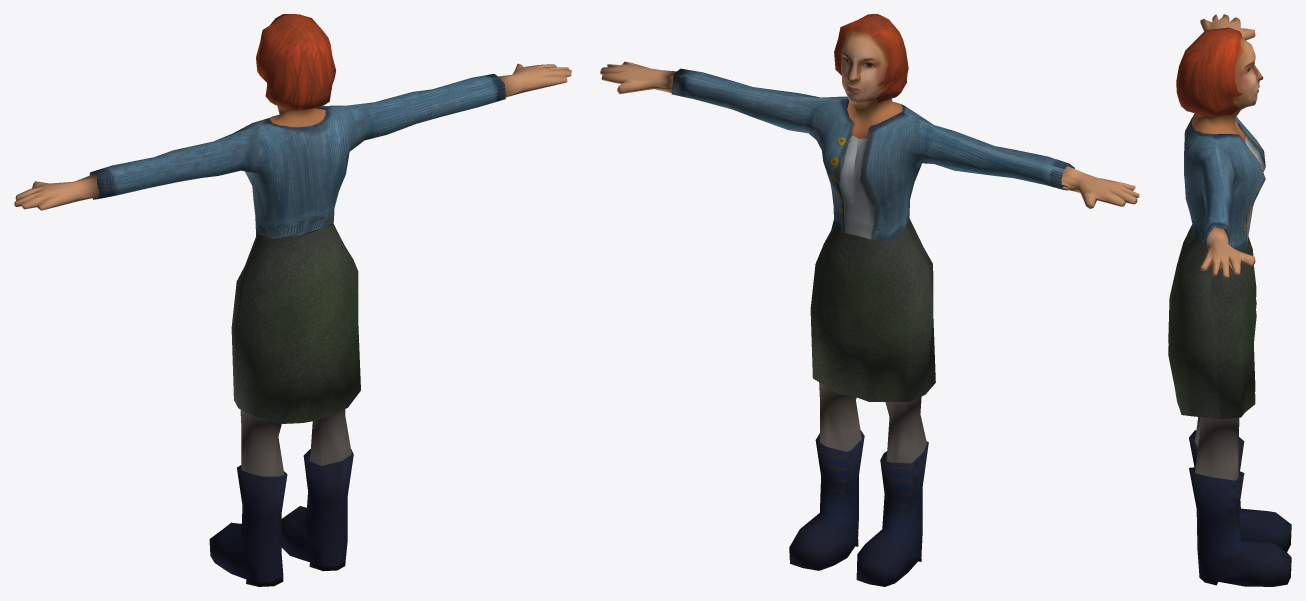
File: npc woman.fbx
The picture shows the model from 3 angles, left to right: view 1: azimuth 30°, elevation 25°; view 2: azimuth 150°, elevation 25°; view 3: azimuth 270°, elevation 25°; orthographic projection. The views are drawn at different scales.
Visible parts, largest first — view 1: Plane; view 2: Plane; view 3: Plane.
Part boxes in pixels (left/top/right/bottom): Plane: left=14, top=14, right=571, bottom=586; Plane: left=600, top=14, right=1139, bottom=586; Plane: left=1168, top=14, right=1291, bottom=586.
Bounding box in the file's own units: 182 × 174 × 36.52.
1 material, 1 textured.
